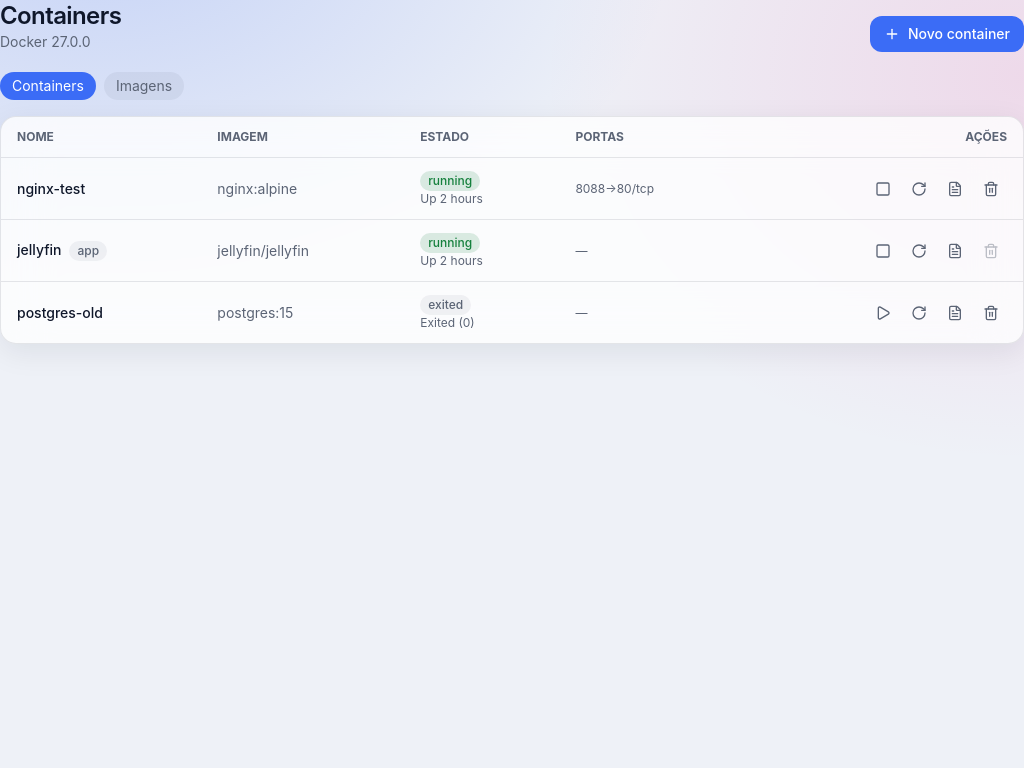
it: Containers page › shows import errors from the backend
Click the button "Novo container".
click(947, 34)  # box 870,16 -> 1023,52
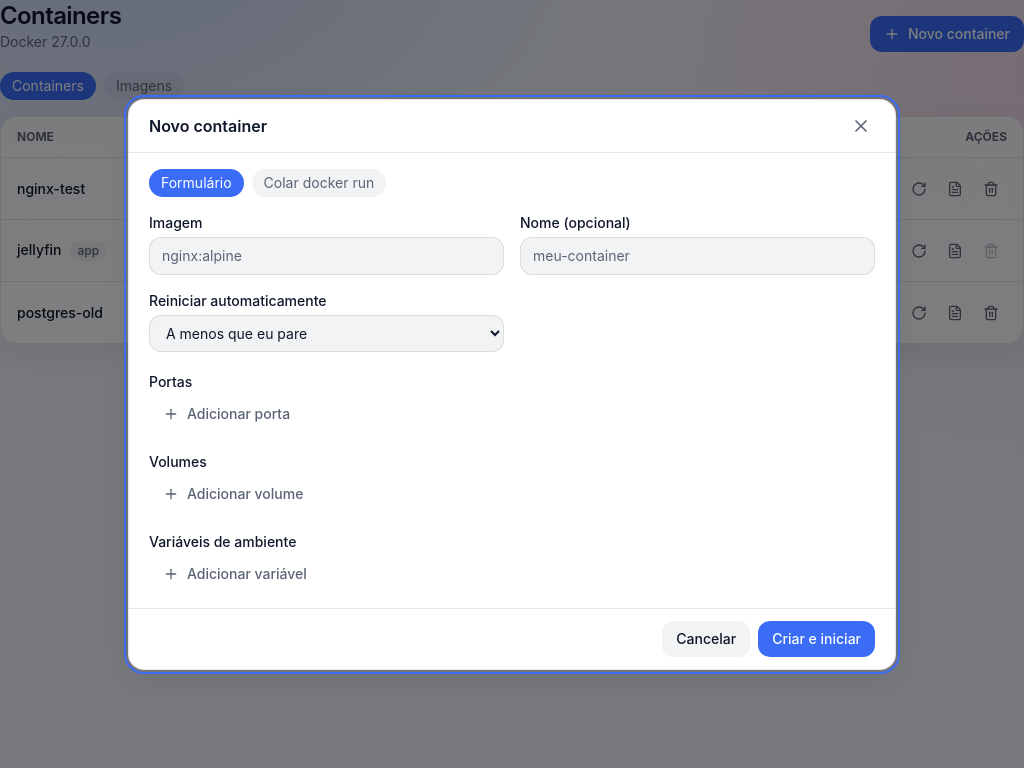
Click the tab "Colar docker run".
click(319, 182)  # box 252,168 -> 386,196
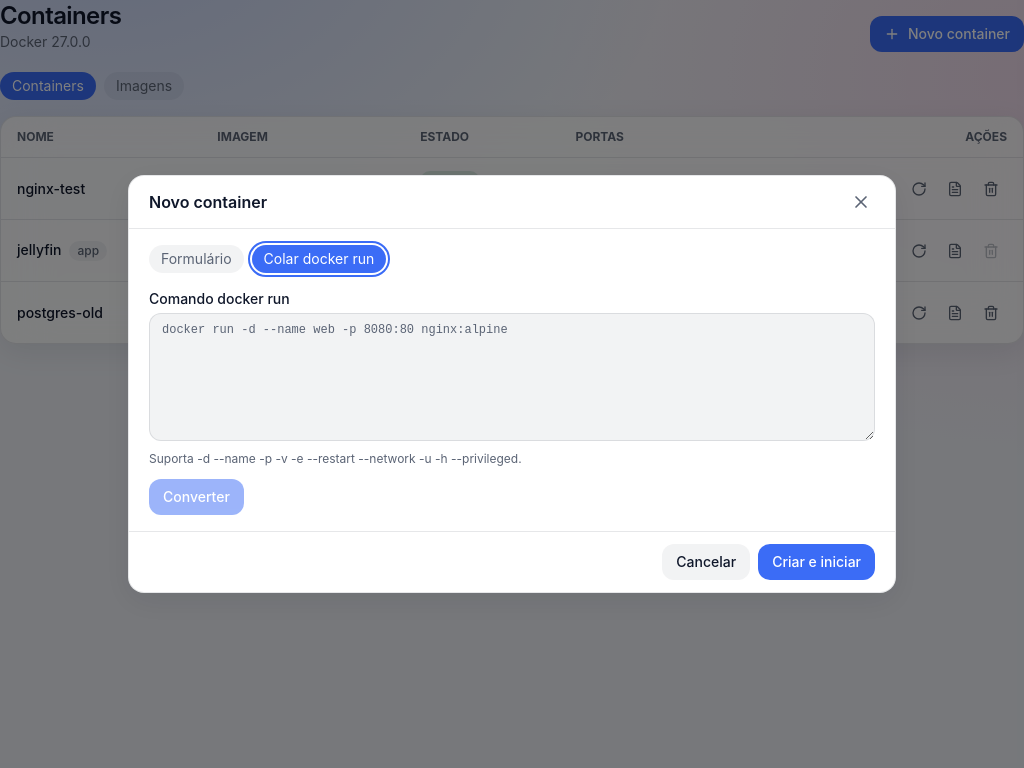
Type "docker run --rm img" into the text box labelled "Comando docker run".
click(512, 377); type("docker run --rm img")  # box 149,313 -> 875,441
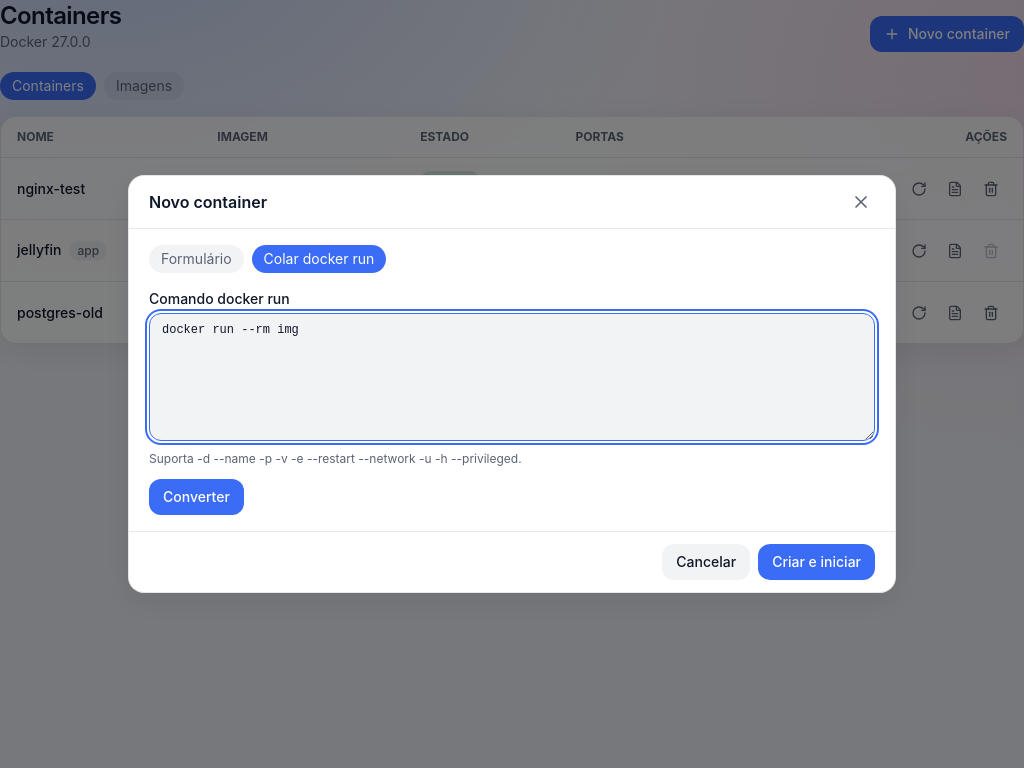
Click the button "Converter".
click(196, 497)  # box 149,479 -> 244,515
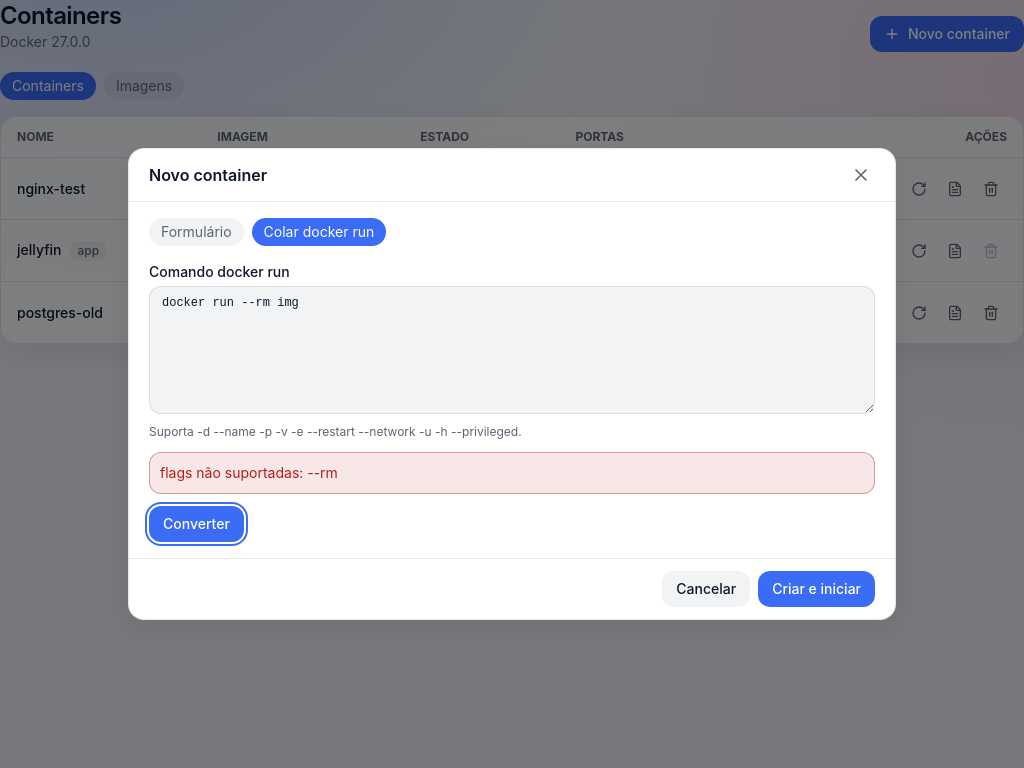
Now the message shows "--rm", box 160,464 -> 338,481
